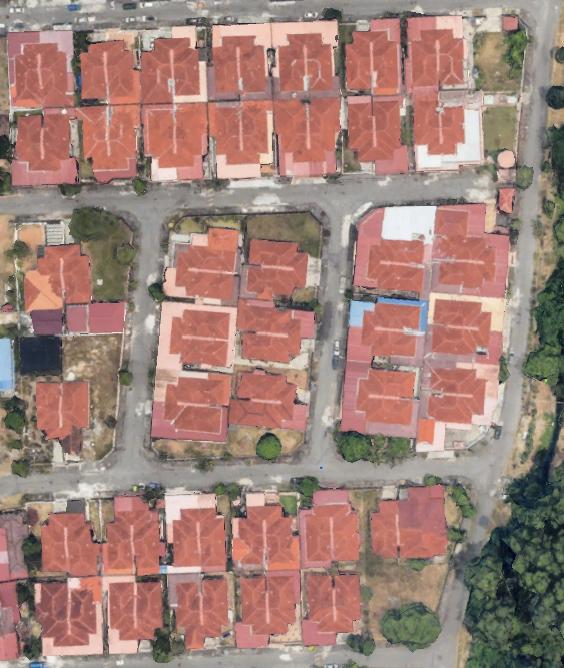building: (21, 242, 130, 337), (427, 208, 500, 267), (402, 481, 450, 562), (174, 224, 241, 277), (102, 492, 138, 577), (135, 492, 169, 578), (139, 33, 178, 106), (272, 100, 314, 165), (233, 366, 299, 407), (233, 303, 303, 341), (229, 502, 269, 567), (30, 580, 66, 650), (246, 236, 312, 274), (407, 26, 444, 92), (275, 30, 311, 97), (78, 102, 111, 175), (345, 98, 380, 166), (358, 324, 422, 361), (144, 107, 180, 172), (162, 374, 227, 410), (57, 377, 93, 442), (263, 573, 299, 638), (426, 364, 489, 401), (169, 306, 232, 343), (226, 398, 296, 431), (431, 297, 495, 333), (69, 509, 102, 578), (78, 38, 113, 103), (174, 581, 206, 652), (363, 259, 426, 295), (343, 27, 377, 93), (10, 39, 45, 103), (242, 268, 309, 301), (38, 511, 72, 576), (367, 496, 401, 561), (210, 33, 245, 96), (177, 106, 211, 170), (313, 95, 344, 164), (212, 105, 245, 169), (170, 505, 203, 569), (106, 578, 138, 643), (330, 571, 363, 634), (238, 335, 303, 366), (304, 501, 335, 566), (67, 583, 98, 648), (411, 98, 444, 159), (354, 393, 415, 426), (15, 111, 46, 175), (355, 366, 421, 396), (374, 27, 404, 92), (172, 273, 237, 303), (107, 37, 137, 100), (166, 341, 231, 370), (161, 408, 225, 437), (241, 33, 269, 97), (361, 299, 425, 327), (33, 378, 60, 444), (309, 31, 337, 94), (46, 112, 74, 175), (113, 111, 141, 174), (202, 577, 230, 640), (175, 34, 202, 99), (304, 572, 331, 637), (426, 398, 486, 427), (42, 41, 70, 103), (377, 98, 404, 162), (138, 579, 165, 643), (434, 264, 500, 290), (238, 574, 264, 639), (244, 105, 271, 167), (429, 331, 493, 357), (203, 505, 229, 569), (336, 500, 362, 563), (366, 236, 426, 263), (270, 502, 295, 566), (440, 27, 466, 87), (444, 102, 467, 157)
